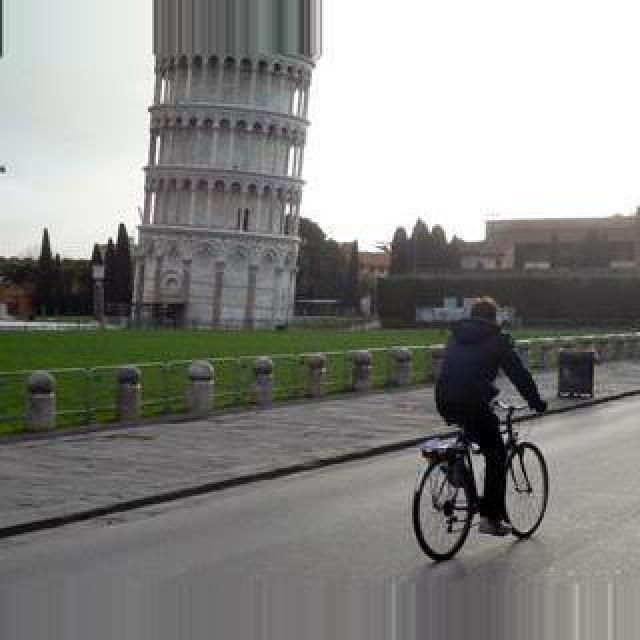MC-Bike: (432, 292, 546, 542)
Person: (410, 402, 552, 560)
